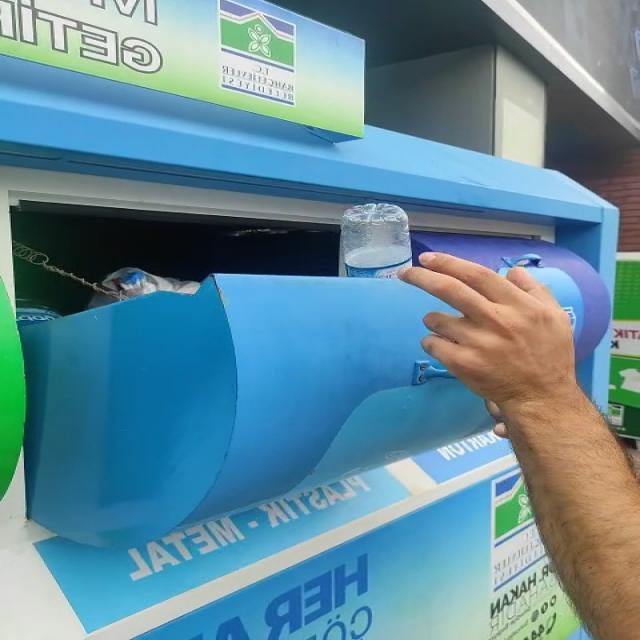Plastic: (340, 204, 412, 278)
